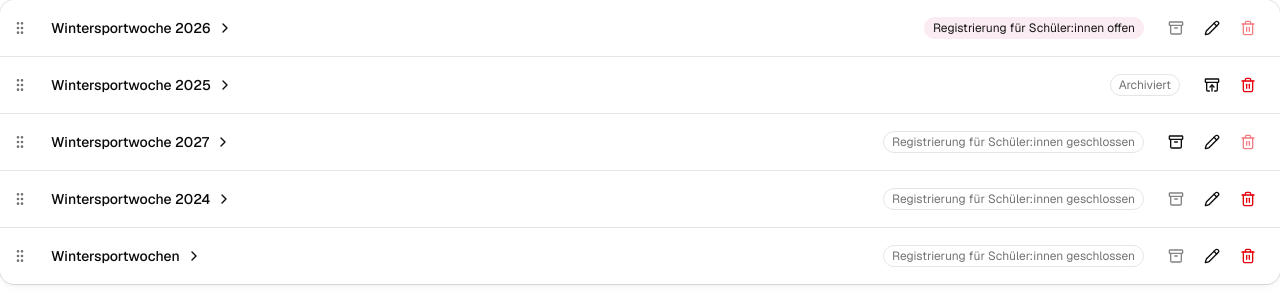
Test case: EventSeriesList — tooltips › explains the Eventreihe Wintersportwoche 2027 archivieren icon on hover
Hover over the button named "Eventreihe Wintersportwoche 2027 archivieren".
mouse_move(1176, 142)  # box 1160,126 -> 1192,158
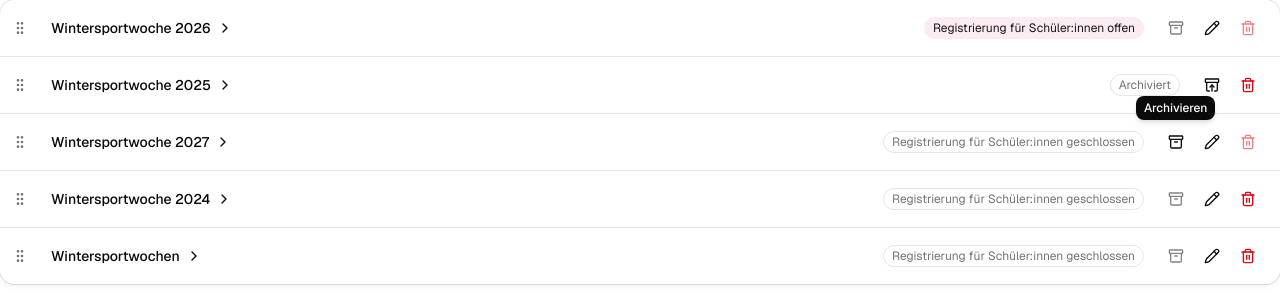
Check: the text "Archivieren" is shown, box 1136,96 -> 1215,120
